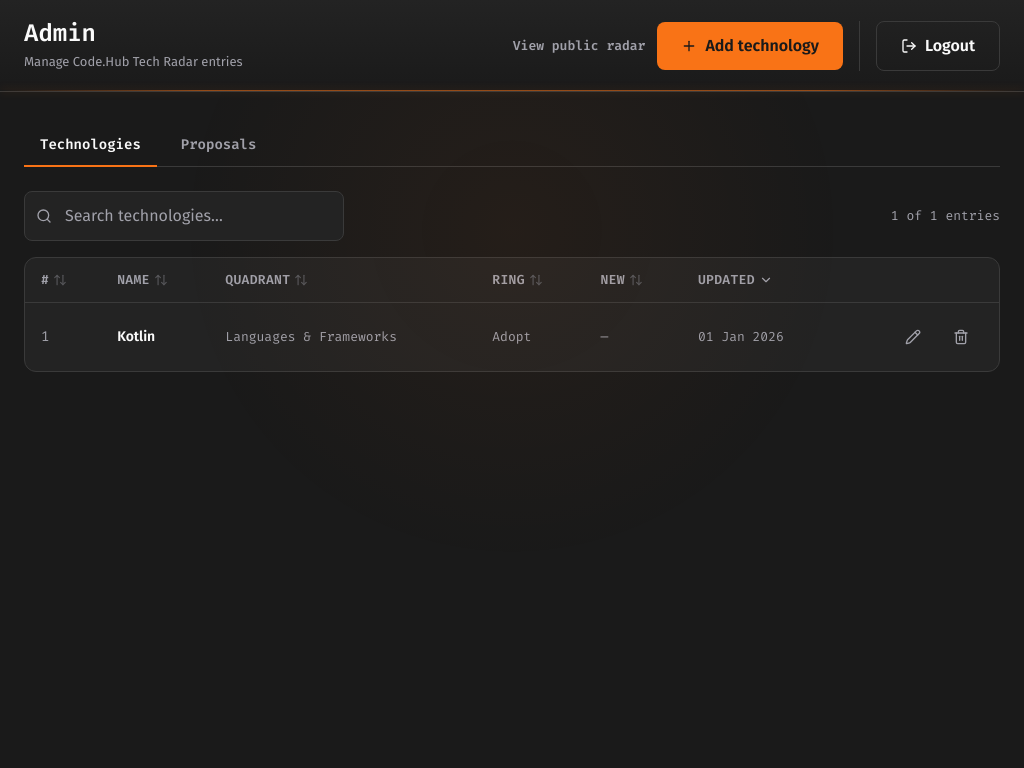
Test case: AdminPage entry management › deletes an entry behind the confirm dialog and refetches
The width and height of the screenshot is (1024, 768).
Expected: the text "Kotlin" is shown, [101, 302, 209, 371]
What coordinates should you click on to do the following:
click the button named "Delete Kotlin"
I would click on:
 (961, 337)
Its box is [939, 315, 983, 359].
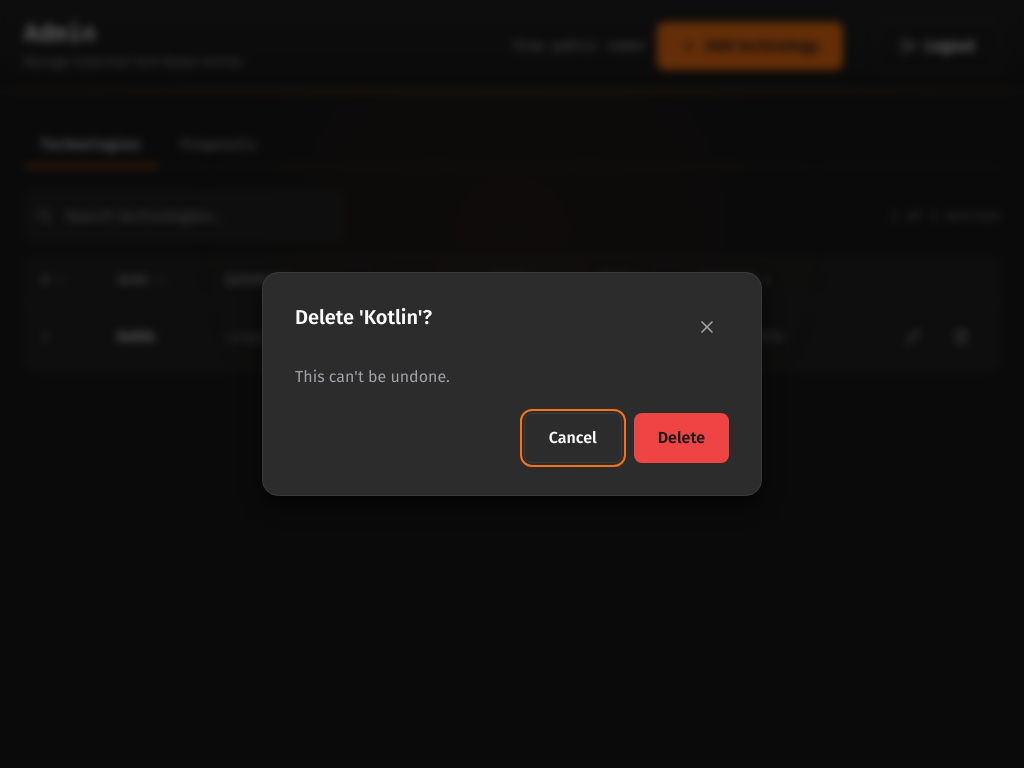
What coordinates should you click on to do the following:
click the button "Delete"
I would click on:
 (681, 438)
Its box is [634, 413, 729, 463].
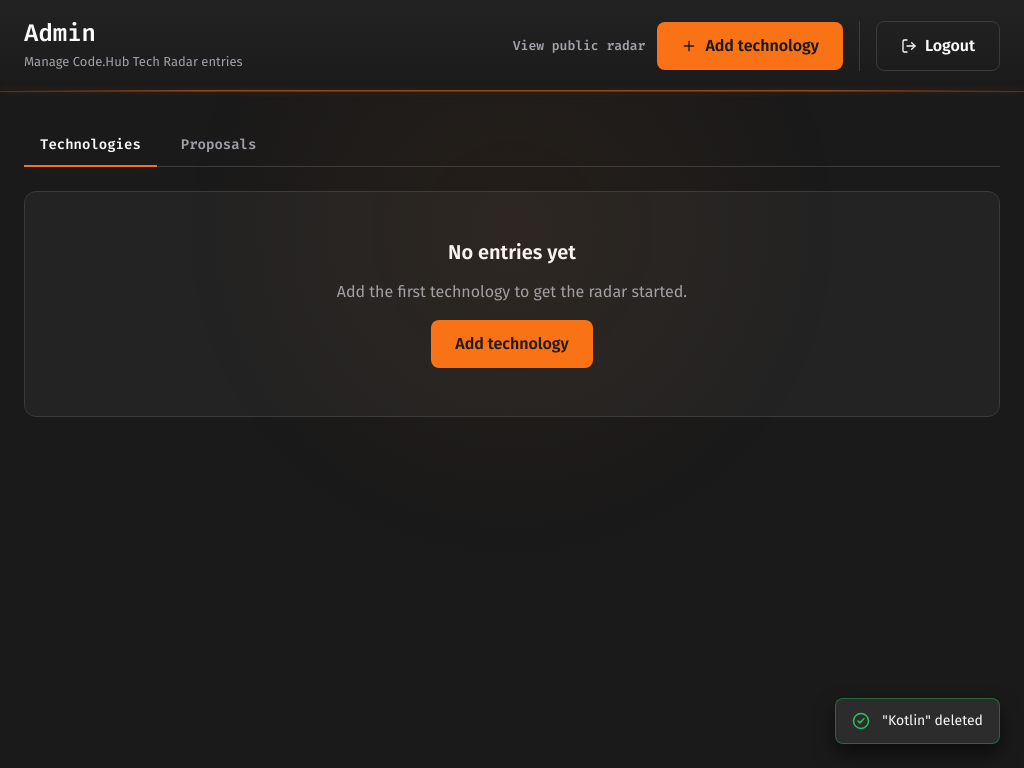
Now the message reads "\"Kotlin\" deleted", box [882, 712, 983, 729]
Now the dialog is gone
Now the heading "No entries yet" is shown, box [448, 240, 576, 264]
